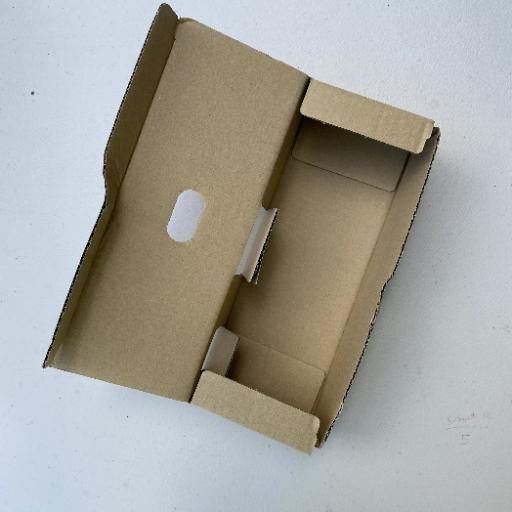Cardboard: (41, 4, 442, 455)
